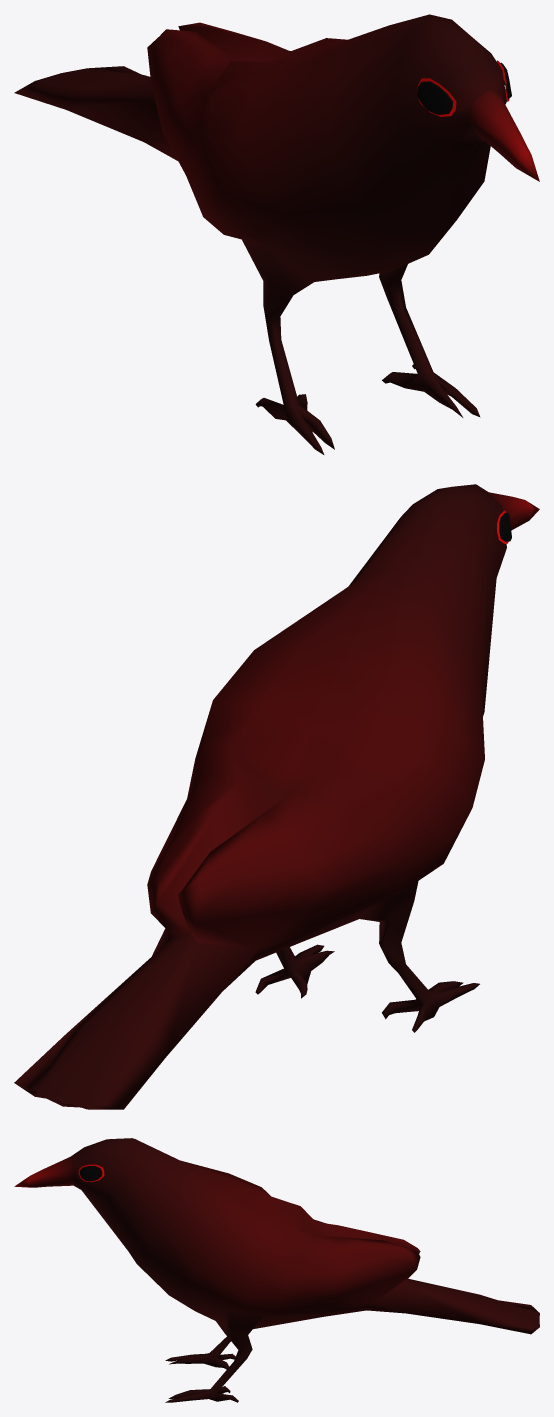
Rendered from BirdsUpright_GroundedCrow.fbx.
3 views of the same model, one above another, from view 1: azimuth 30°, elevation 25°; view 2: azimuth 150°, elevation 25°; view 3: azimuth 270°, elevation 25° (orthographic). The views are drawn at different scales.
Parts seen in each view (by area): view 1: base; view 2: base; view 3: base.
Boxes of the visible parts, box(x1,y1,x2,y2) form: base: box(14, 14, 539, 454); base: box(14, 484, 539, 1109); base: box(14, 1138, 539, 1402).
Size of the model in its own units: 9.84 by 16.38 by 32.11.
